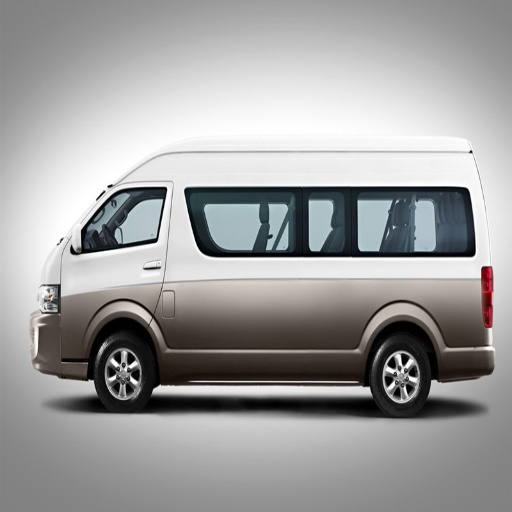back_left_door: (292, 274, 344, 372), (108, 194, 158, 249)
trunk: (345, 261, 496, 378), (47, 287, 156, 366)
